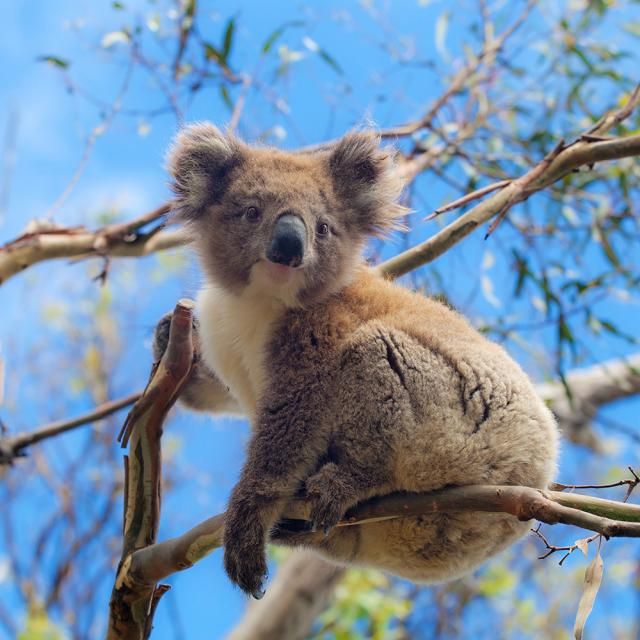Koala: (155, 107, 563, 589)
